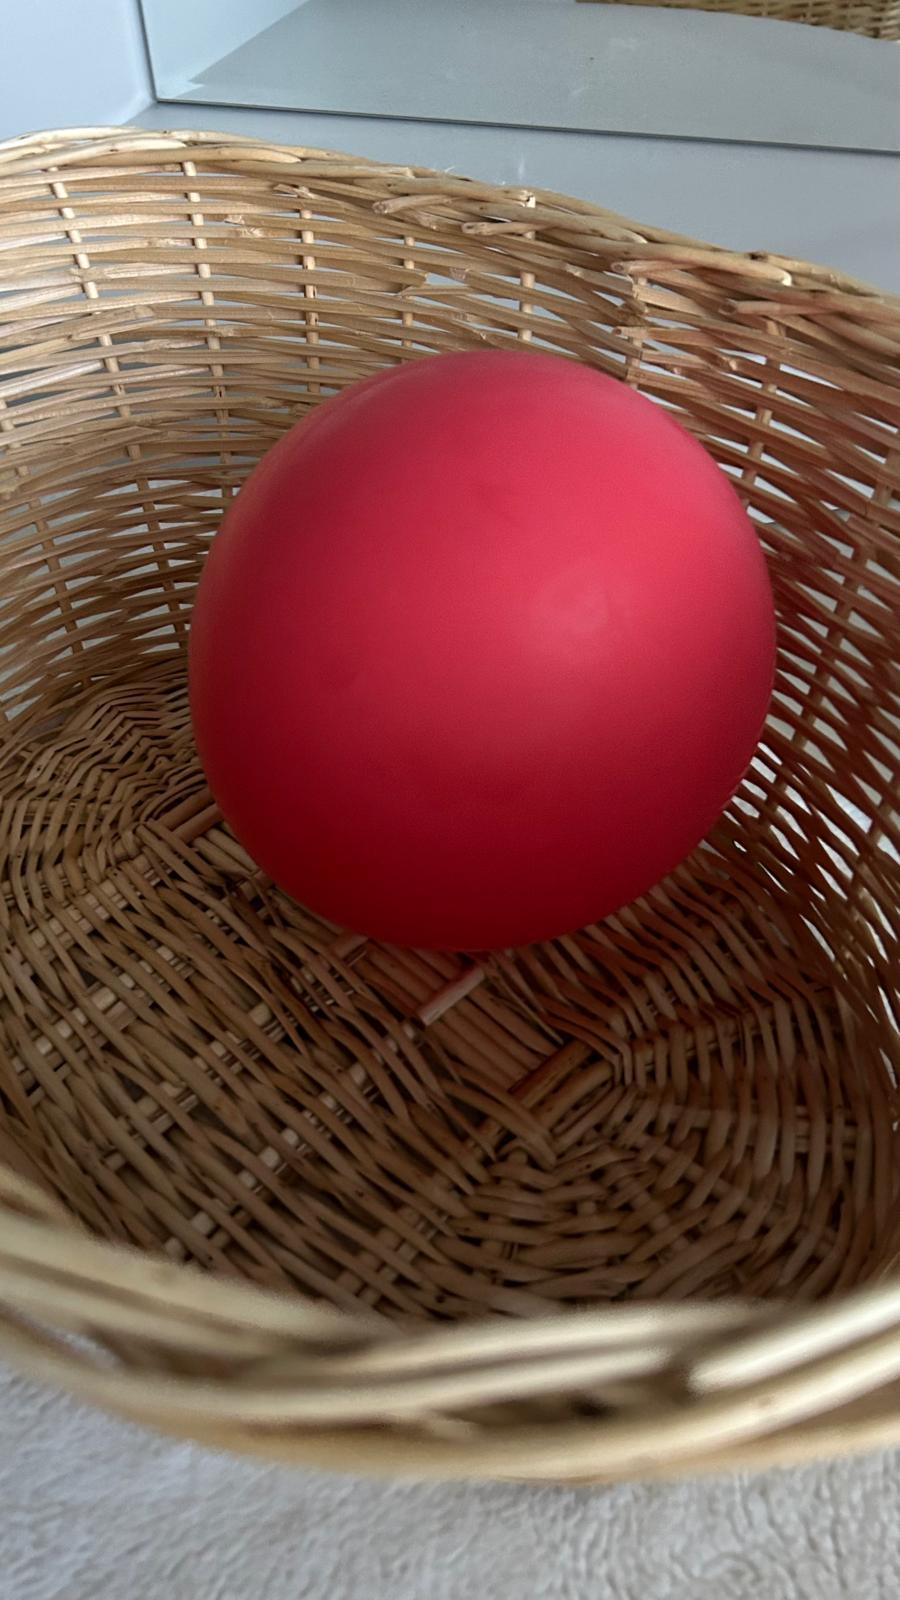red: (177, 331, 779, 955)
